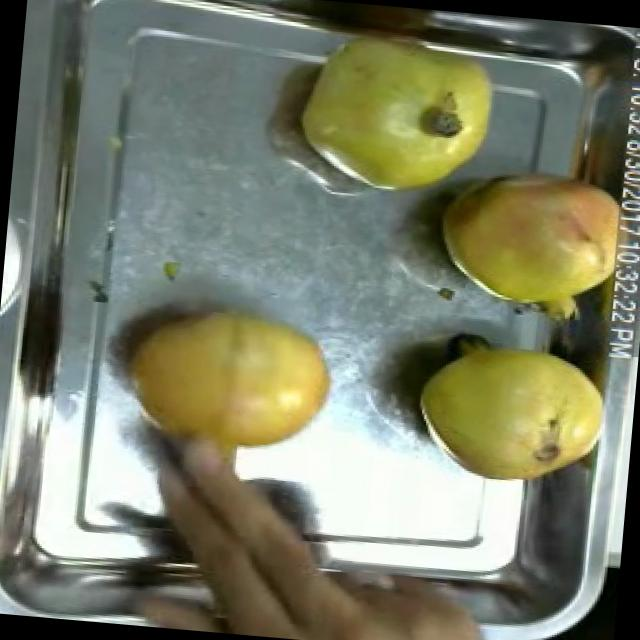fruit: (98, 282, 351, 486), (282, 17, 512, 209), (417, 147, 640, 335), (398, 324, 620, 496)
